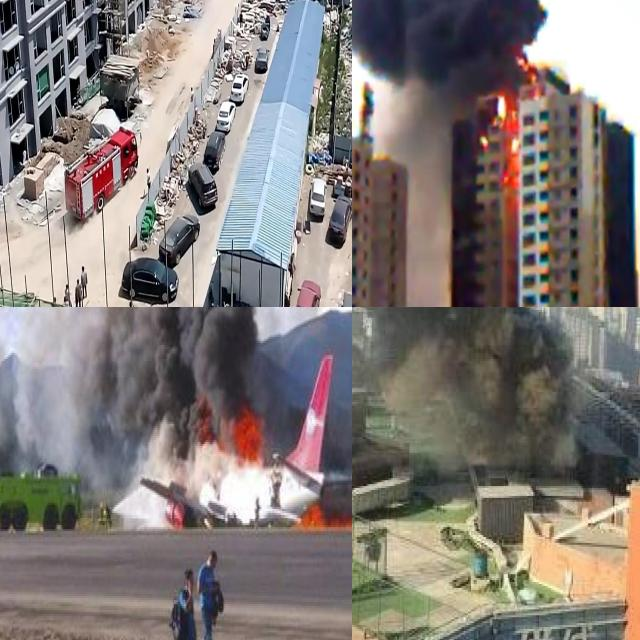fire: (294, 497, 352, 534), (230, 406, 262, 458), (518, 48, 542, 82), (494, 92, 506, 122), (507, 133, 519, 154), (477, 129, 489, 147)
smoke: (0, 307, 263, 488), (352, 307, 577, 471), (352, 0, 537, 77)
